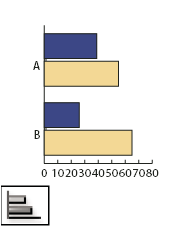canvas: (47, 27, 152, 157)
data: (1, 183, 51, 226)
x-axis: (43, 159, 155, 165)
x-labels: (40, 167, 159, 180)
y-axis: (42, 23, 46, 163)
y-labels: (31, 58, 40, 144)
